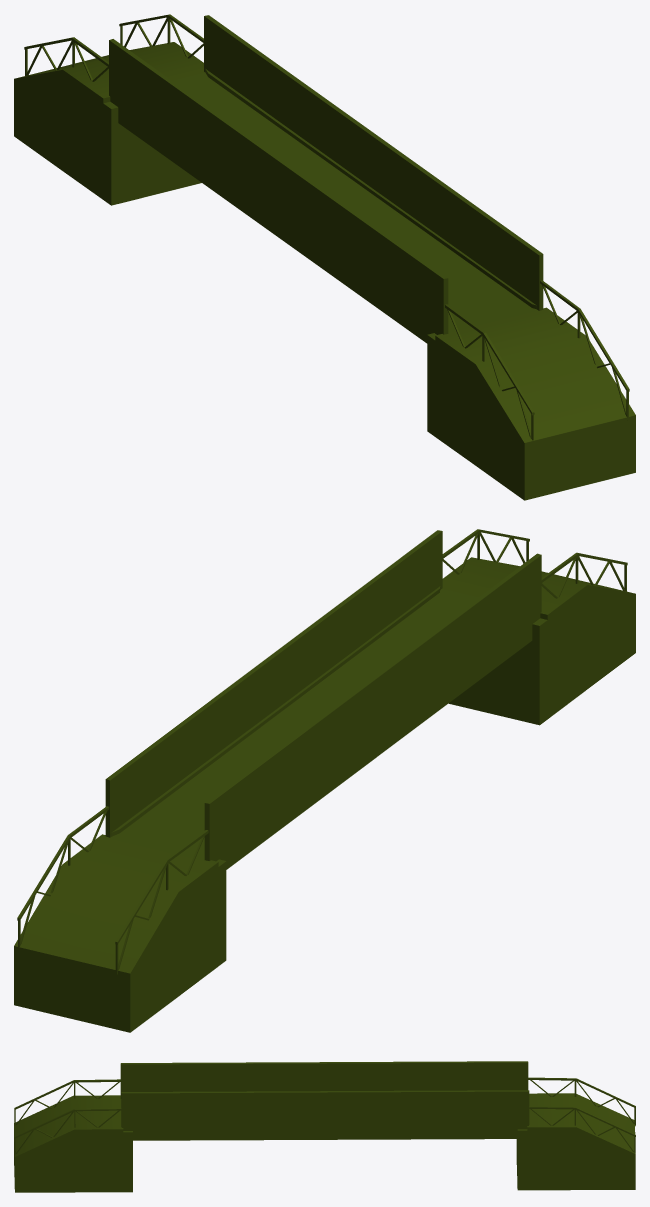
File: T1_Bridge01_M.fbx
3 views of the same model, one above another, from view 1: azimuth 30°, elevation 25°; view 2: azimuth 150°, elevation 25°; view 3: azimuth 270°, elevation 25° (orthographic). The views are drawn at different scales.
Visible parts, largest first — view 1: T1_Bridge01; view 2: T1_Bridge01; view 3: T1_Bridge01.
Boxes of the visible parts, bbox=[...] form: T1_Bridge01: bbox=[14, 14, 635, 500]; T1_Bridge01: bbox=[14, 529, 635, 1032]; T1_Bridge01: bbox=[14, 1061, 635, 1192].
Size of the model in its own units: 5.03 by 6.19 by 35.85.
